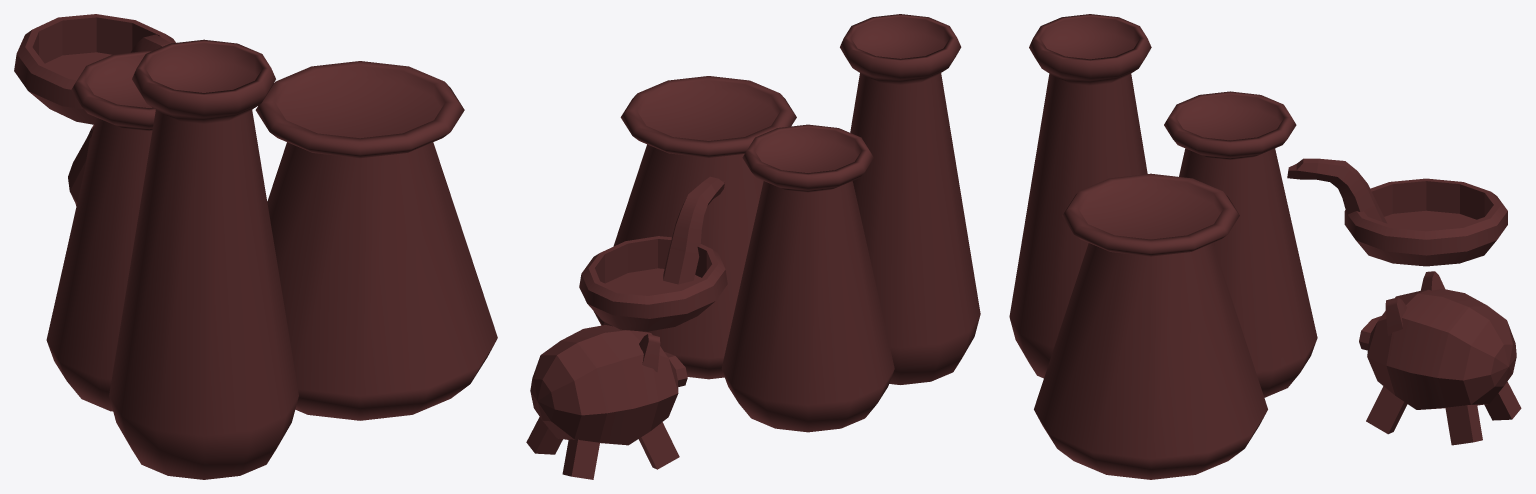
The model's file is objetos greda 1.fbx.
3 views of the same model, side by side, from view 1: azimuth 30°, elevation 25°; view 2: azimuth 150°, elevation 25°; view 3: azimuth 270°, elevation 25° (orthographic). The views are drawn at different scales.
Parts seen in each view (by area): view 1: pCylinder65, pCylinder64, pCylinder60, pCylinder63, polySurface48; view 2: pCylinder60, pCylinder64, pCylinder65, polySurface48, pCylinder63; view 3: pCylinder65, pCylinder64, pCylinder60, polySurface48, pCylinder63.
Boxes of the visible parts, x1,y1,x2,y2 form: pCylinder65: [255, 61, 497, 420]; pCylinder64: [109, 39, 298, 479]; pCylinder60: [46, 50, 155, 411]; pCylinder63: [14, 14, 175, 124]; polySurface48: [68, 125, 94, 205]; pCylinder60: [721, 124, 894, 432]; pCylinder64: [840, 14, 980, 384]; pCylinder65: [593, 76, 796, 379]; polySurface48: [526, 322, 687, 479]; pCylinder63: [579, 176, 727, 331]; pCylinder65: [1034, 173, 1267, 479]; pCylinder64: [1009, 14, 1151, 378]; pCylinder60: [1164, 91, 1317, 397]; polySurface48: [1359, 271, 1521, 445]; pCylinder63: [1287, 158, 1507, 266].
Bounding box in the file's own units: 1.16 × 1.54 × 1.09.
